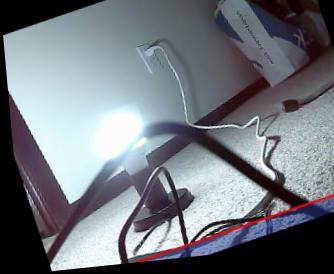TubeLight: (81, 105, 149, 173)
